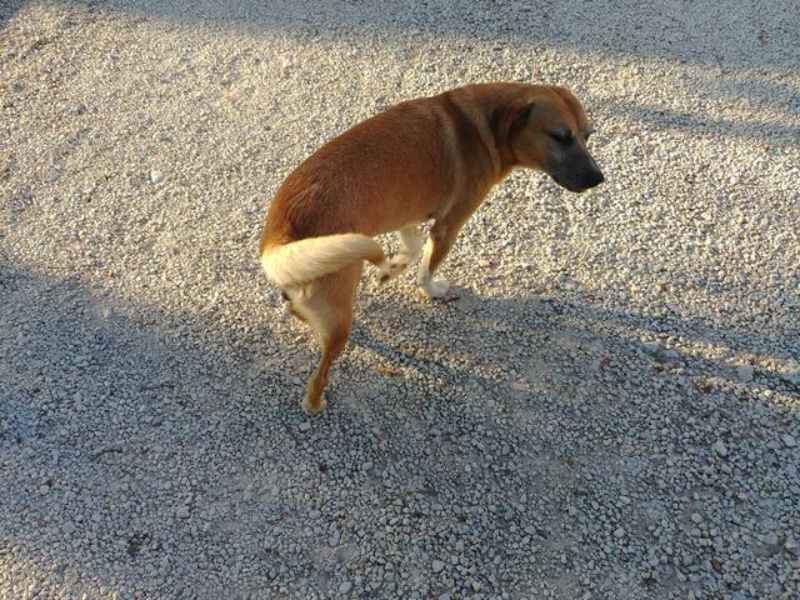puppy: (212, 55, 624, 444)
